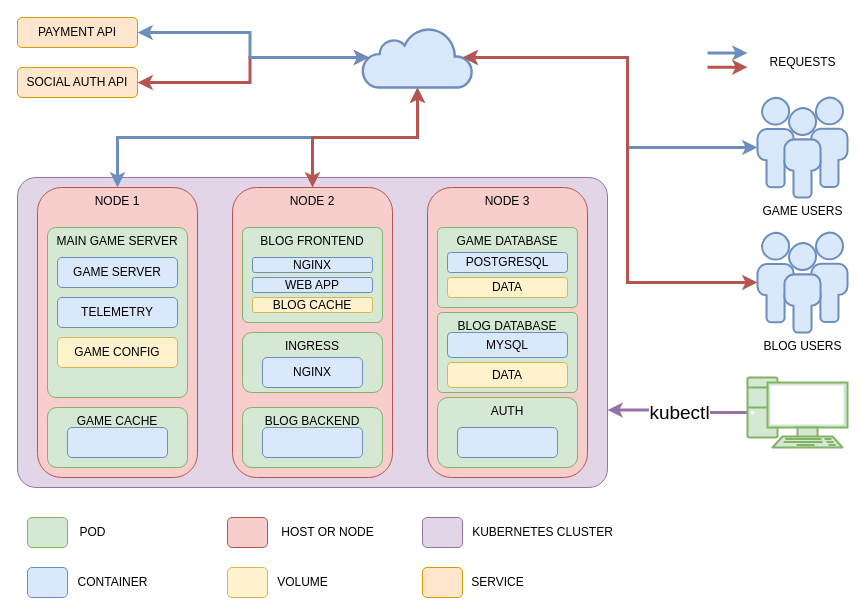
Some shapes in this 866 by 615 pixel diagram are drawn without their labels. The shapes that lost their labels are listed below. From the top down, each one's centre as x and y in pixels, then its label:
At [417,57]: "INTERNET".
At [797,412]: "MY COMPUTER".
At [117,442]: "REDIS".
At [312,442]: "API".
At [507,442]: "AUTH SERVICE".
